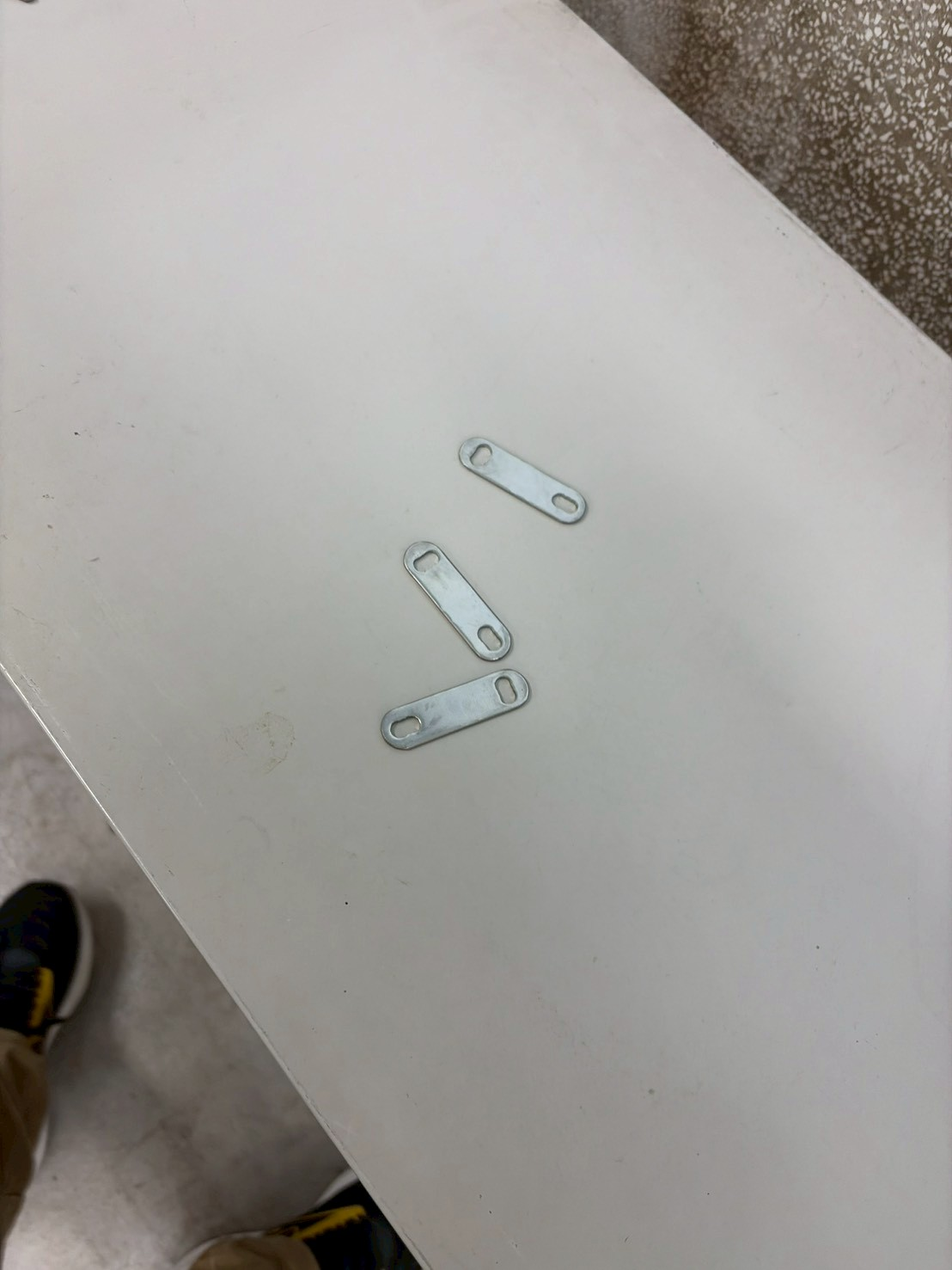Fe: (372, 668, 531, 763), (384, 542, 506, 659), (444, 434, 589, 524)
